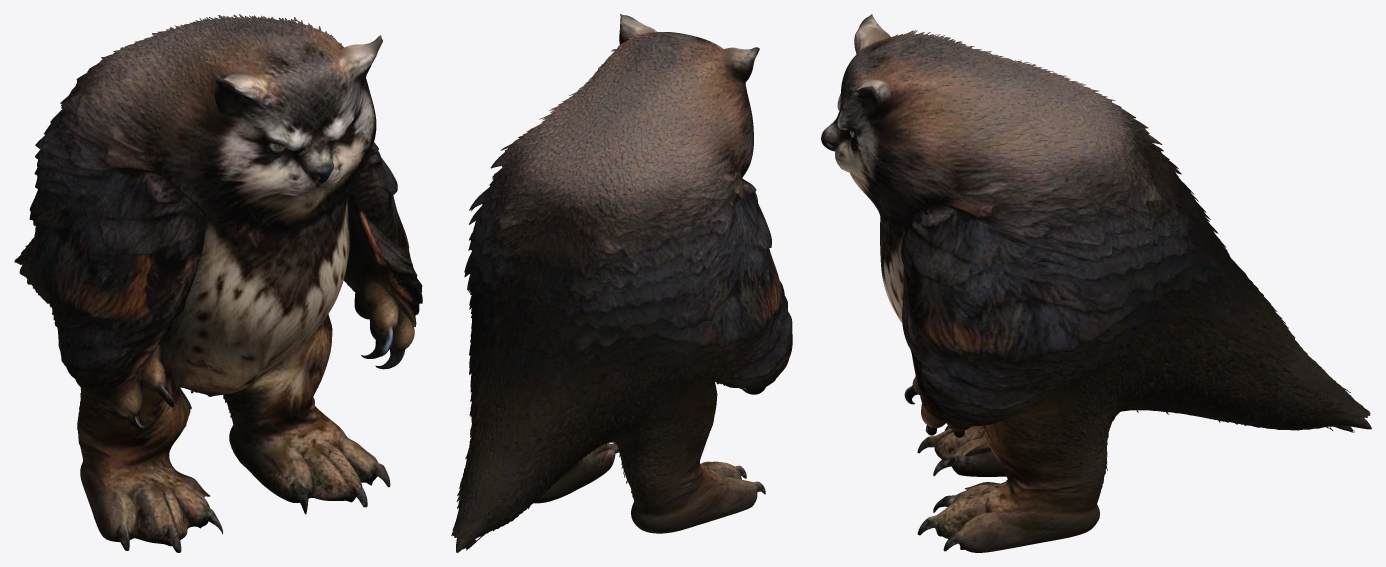
The model's file is owlbear.glb.
The picture shows the model from 3 angles, left to right: view 1: azimuth 30°, elevation 25°; view 2: azimuth 150°, elevation 25°; view 3: azimuth 270°, elevation 25°; orthographic projection. The views are drawn at different scales.
Visible parts, largest first — view 1: material; view 2: material; view 3: material.
Boxes of the visible parts, x1,y1,x2,y2 form: material: (14,14,422,552); material: (451,14,792,552); material: (821,14,1371,552).
Size of the model in its own units: 0.6069 by 0.8835 by 0.968.
1 material, 1 textured.
